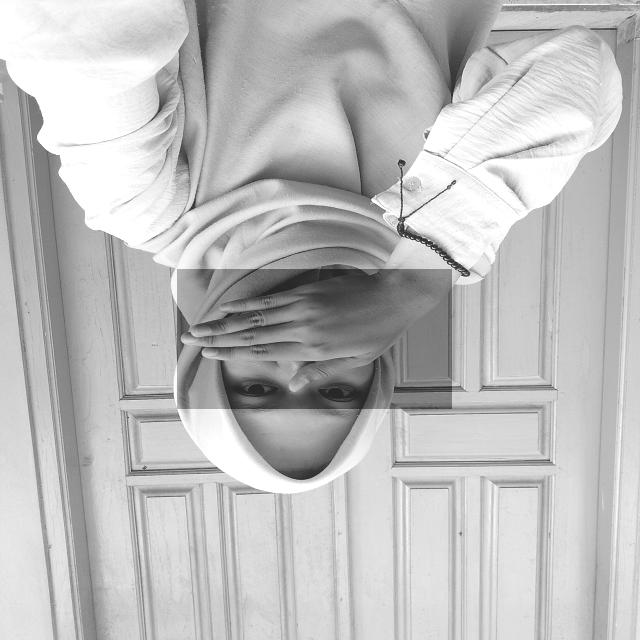buruk: (177, 269, 452, 409)
